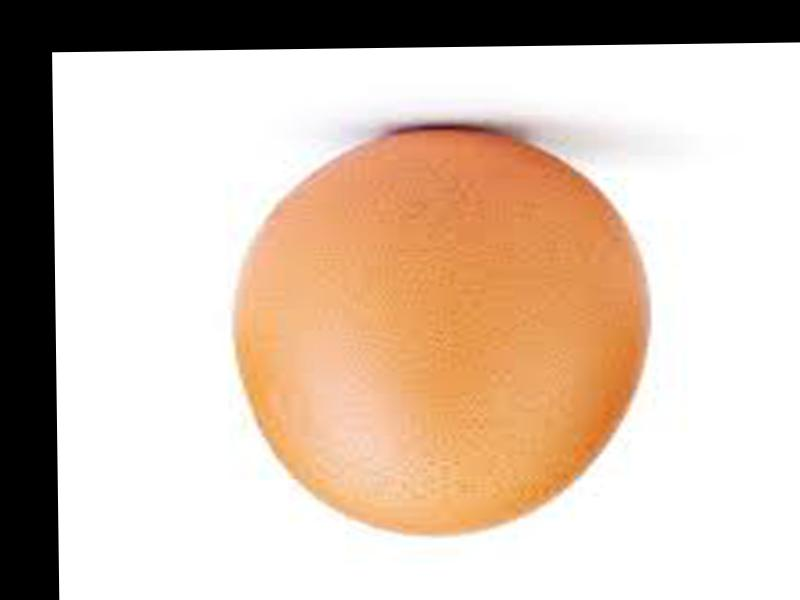Eggs: (233, 128, 650, 532)
